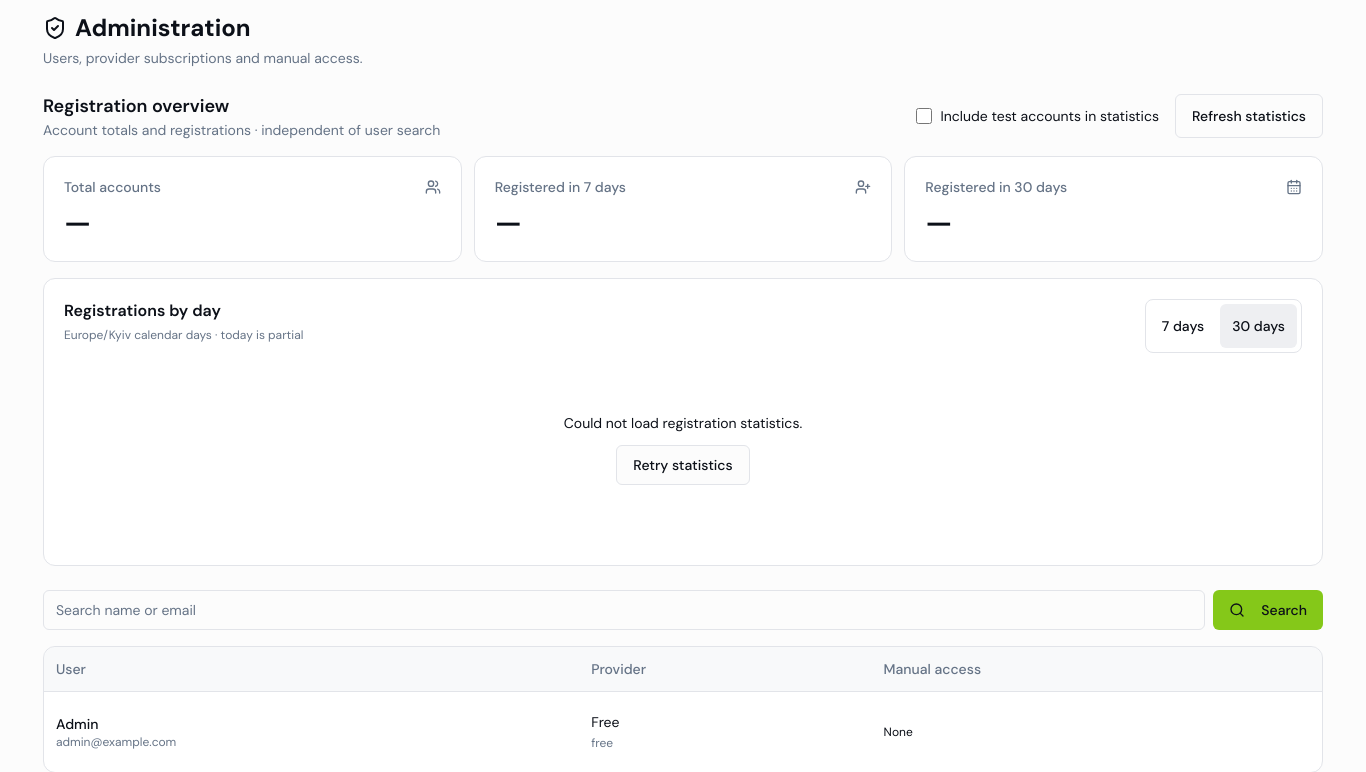
Test: Registration overview and test accounts › renders loading, retryable metric failure and zero registrations
The width and height of the screenshot is (1366, 772).
expect the text "Could not load registration statistics." is shown: met, box [564,413,802,433]
Click the button "Retry statistics" at (683, 465), box [616,445,750,485]
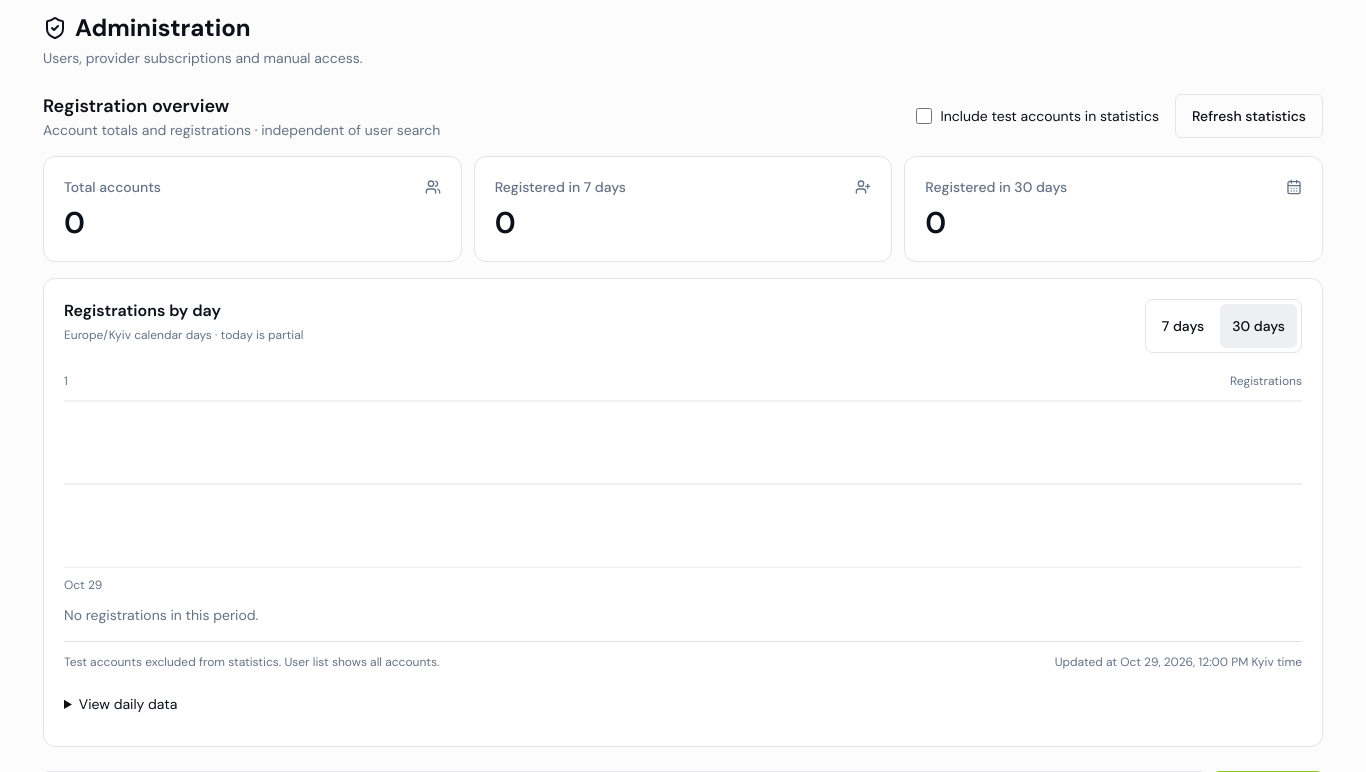
expect the text "No registrations in this period." is shown: met, box [64,606,258,624]
